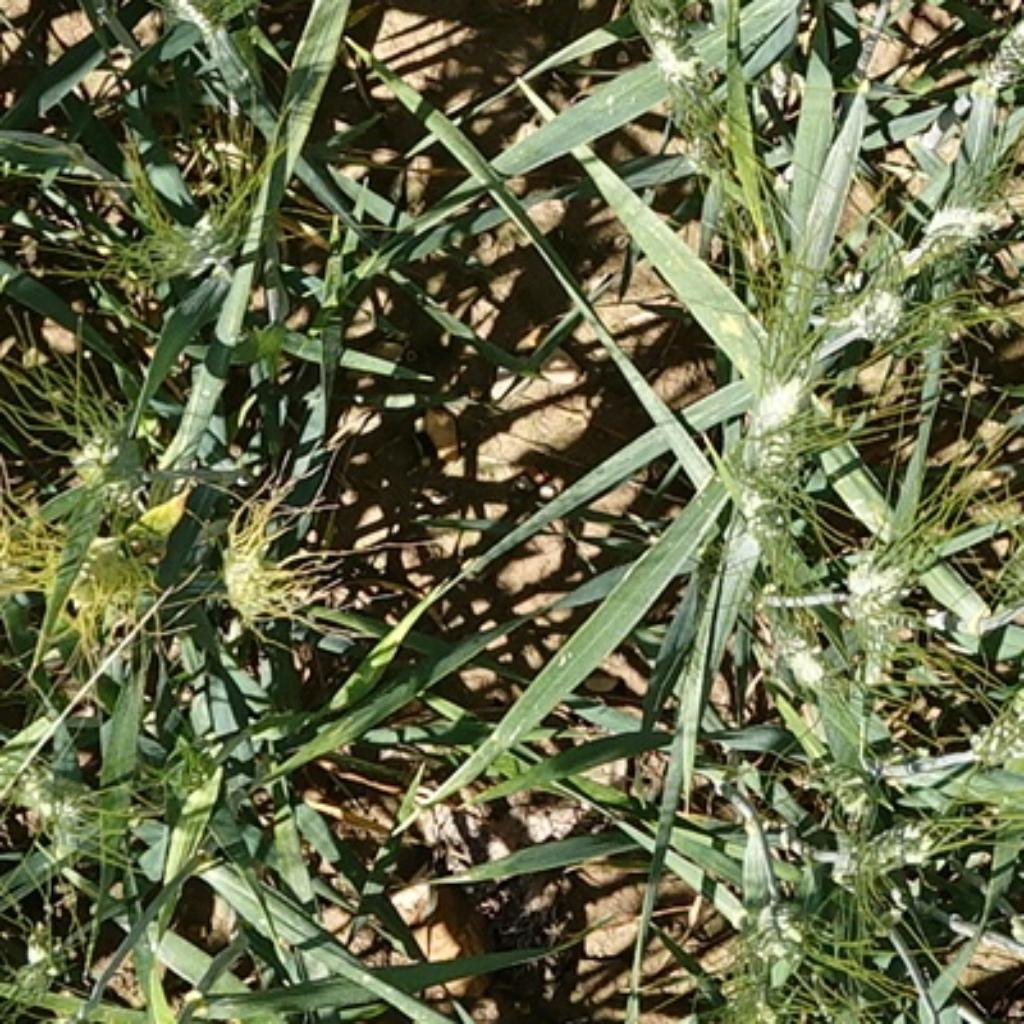0-0: (716, 355, 829, 502), (906, 156, 1024, 279), (619, 0, 729, 130), (122, 189, 261, 284), (832, 529, 926, 660), (56, 394, 158, 514), (0, 730, 106, 843), (716, 878, 821, 980), (808, 258, 916, 353), (52, 523, 154, 622), (824, 806, 939, 888), (801, 757, 903, 834), (212, 517, 286, 614), (957, 678, 1024, 775), (775, 637, 847, 716), (969, 17, 1023, 106)
